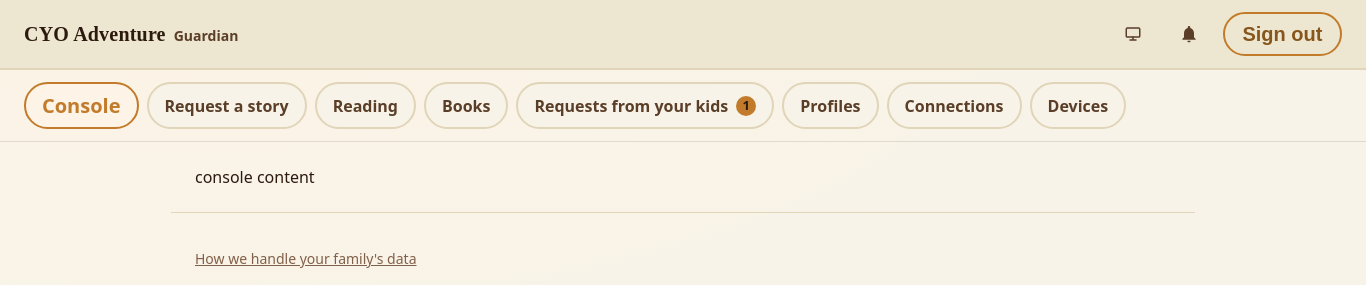
it: GuardianShell › pending story-request nav badge › refetches when the route changes between guardian pages
Check: the link with aria-label "Requests from your kids, 1 waiting" is shown, box [516, 82, 774, 129]
Click the link "Request a story" at point(227, 106), box [146, 82, 307, 129]
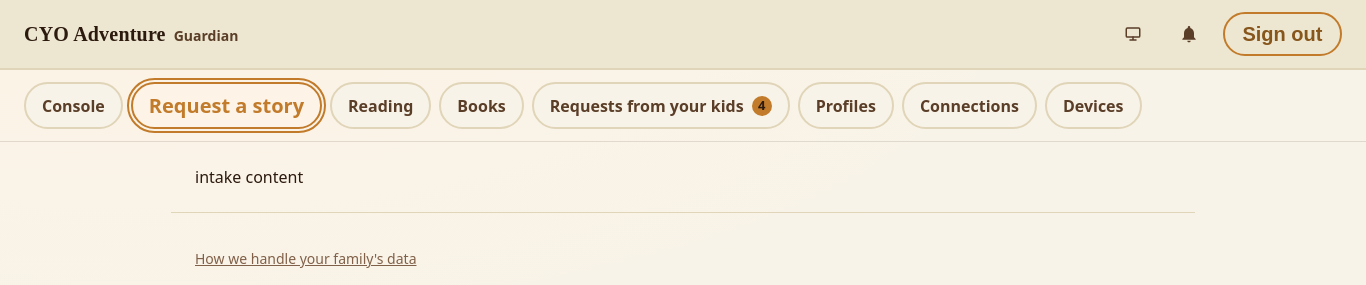
Check: the text "intake content" is shown, box [195, 166, 303, 188]
Check: the link with aria-label "Requests from your kids, 4 waiting" is shown, box [532, 82, 790, 129]
